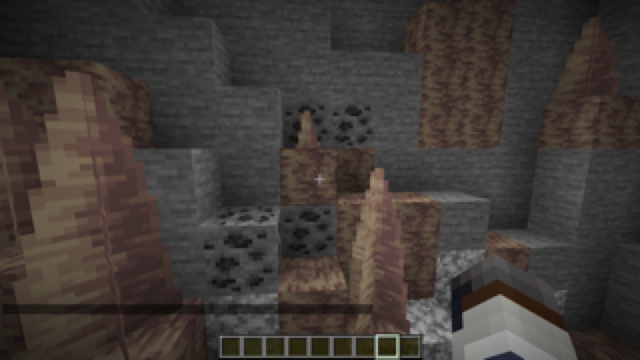coal: (210, 206, 334, 299), (283, 105, 374, 148)
